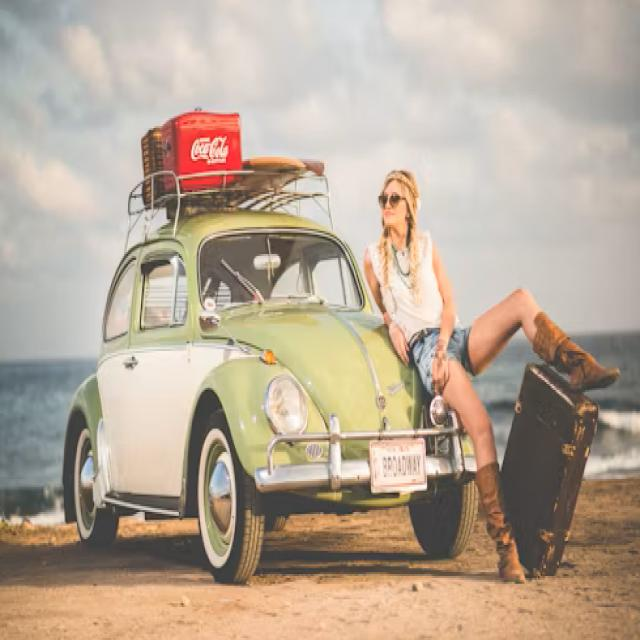Edited images: (358, 157, 613, 608)
